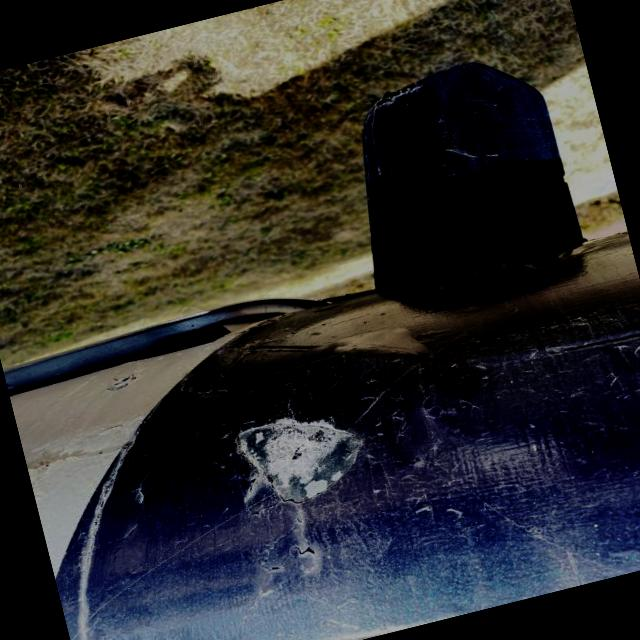crack: (258, 542, 324, 580)
dent: (218, 394, 379, 522)
